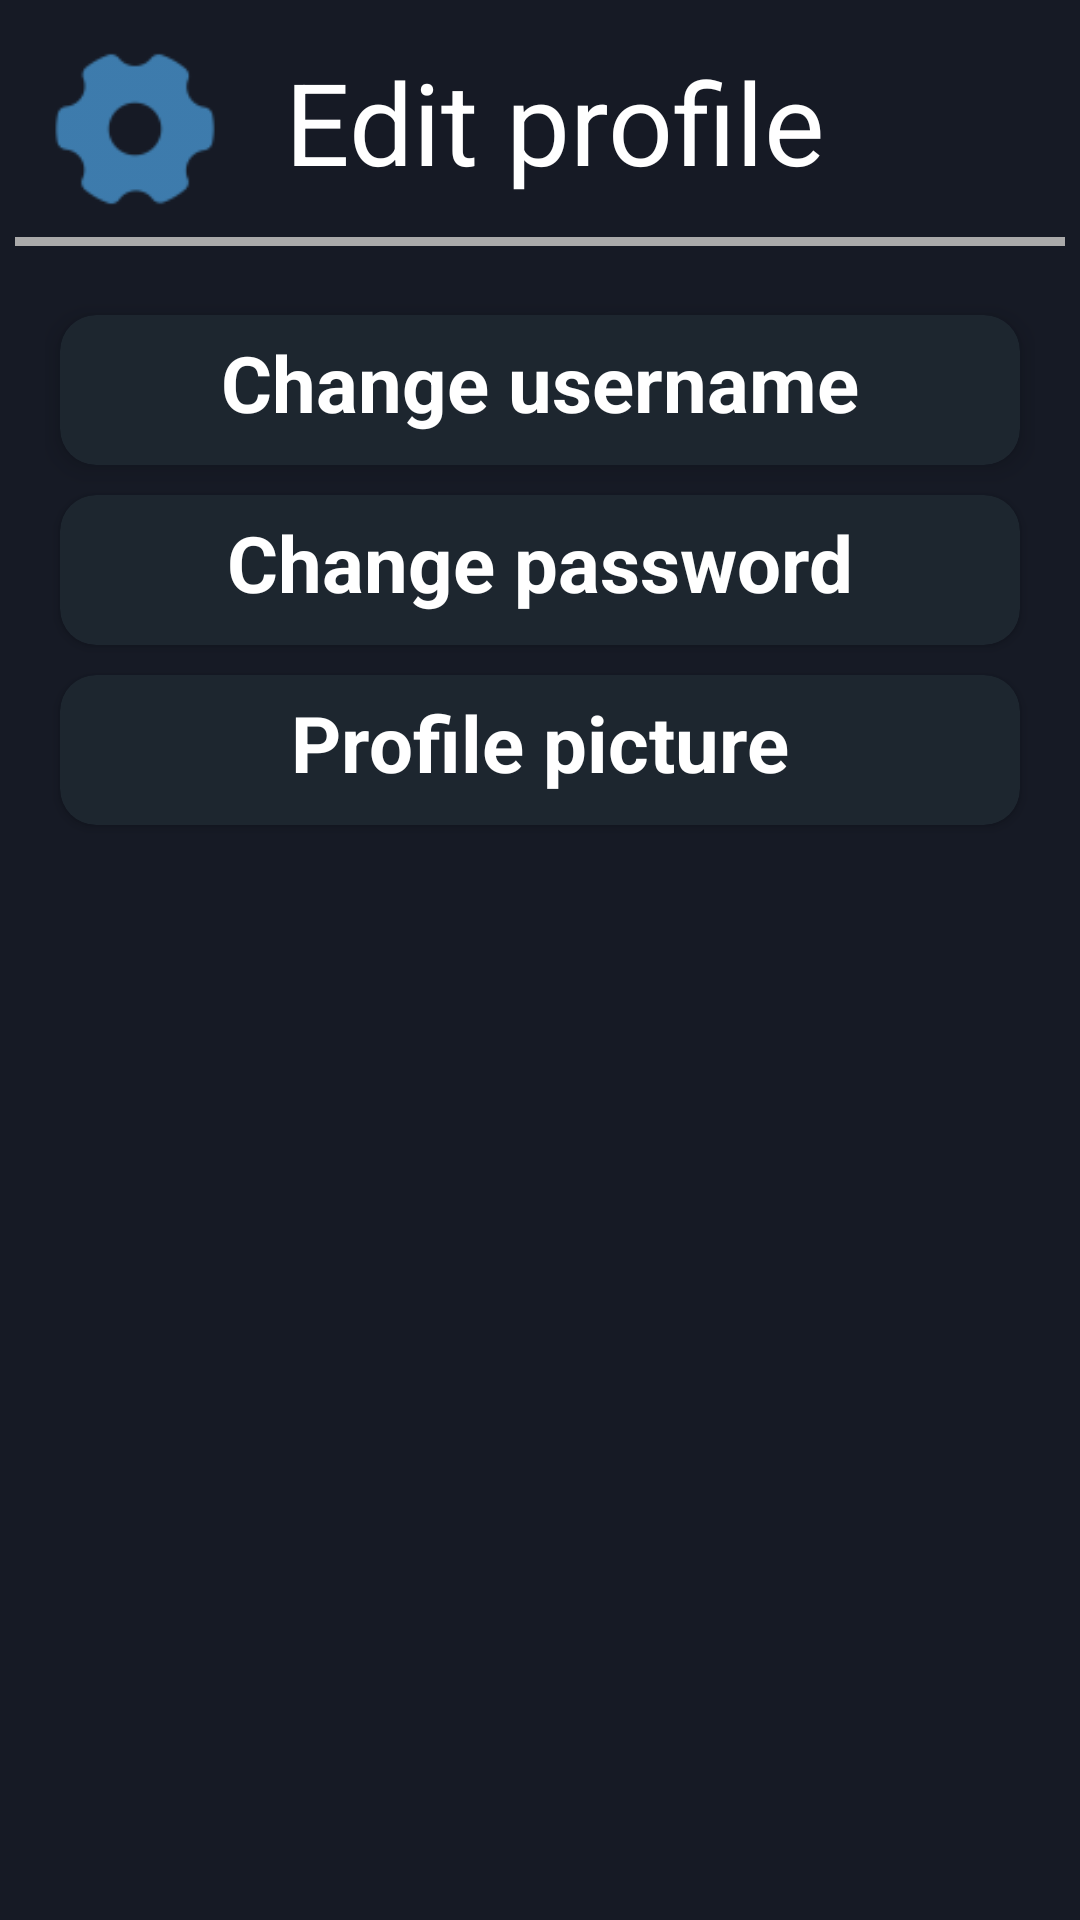

Screen size 1080w x 1920h. Icon name, then its box in pixels as [left=x1, top=y1, right=x2, bottom=y2]:
cogwheel: [left=55, top=54, right=215, bottom=204]
